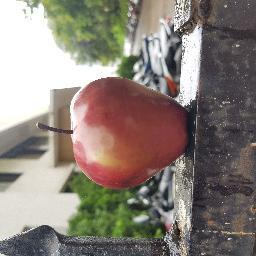Good_apple: (67, 74, 195, 191)
